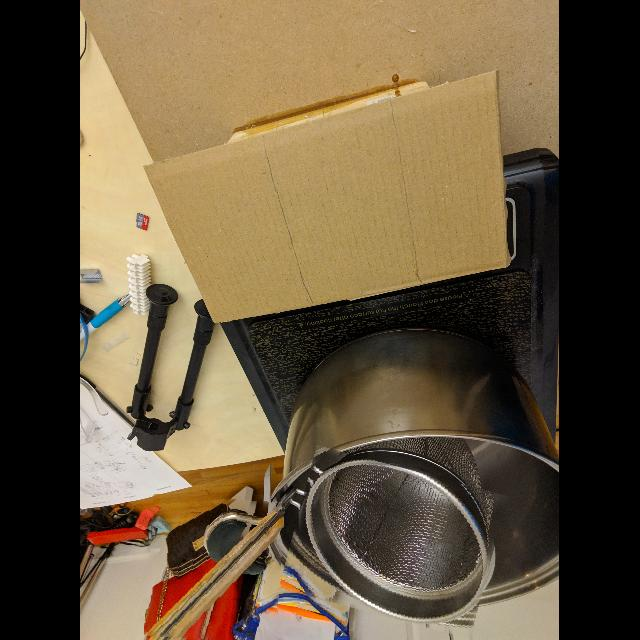Handle: (146, 497, 282, 640)
Strainer: (286, 456, 500, 628)
